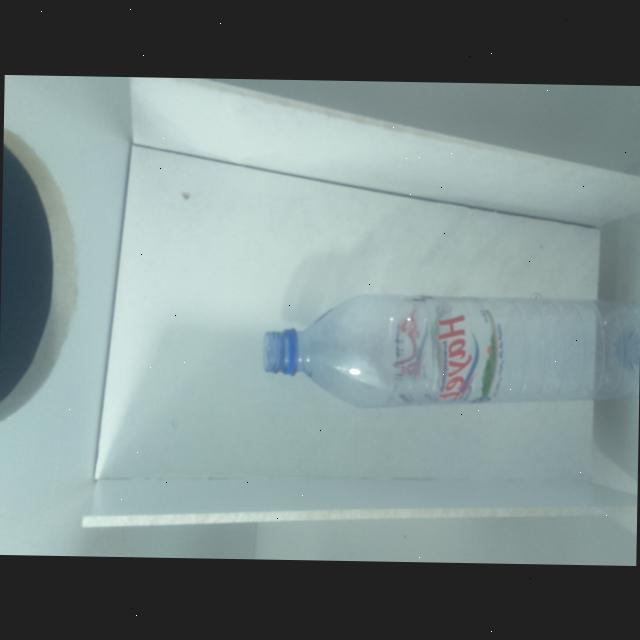trash: (248, 263, 640, 435)
